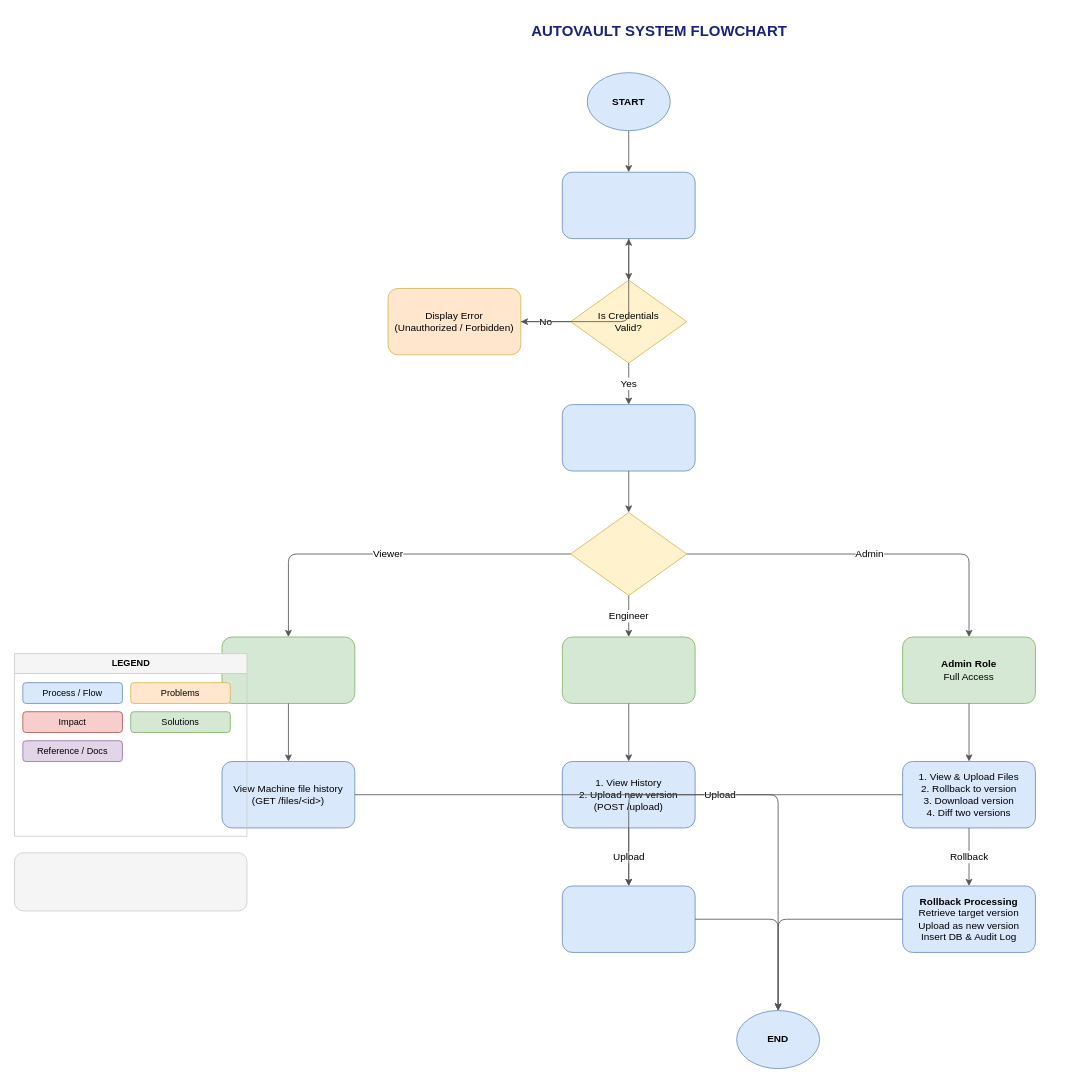
The diagram is 1089 pixels wide and 1083 high, and some of its shapes have lost their labels. The centre of each missing label's shape, as x and y in pixels:
Access Dashboard (Retrieve Machines): (628,437)
Authenticate via auth_bp (Login.svelte / POST /login): (628,205)
Check User Role: (628,554)
Engineer Role Read/Write Access: (628,669)
File Upload Processing Calculate SHA256 Hash MinIO Upload Insert DB & Audit Log: (628,918)
Scope: AutoVault System Flowchart Author: Antigravity Agent Date: 2026-06-06: (130,881)
Viewer Role Read-only Access: (288,669)
